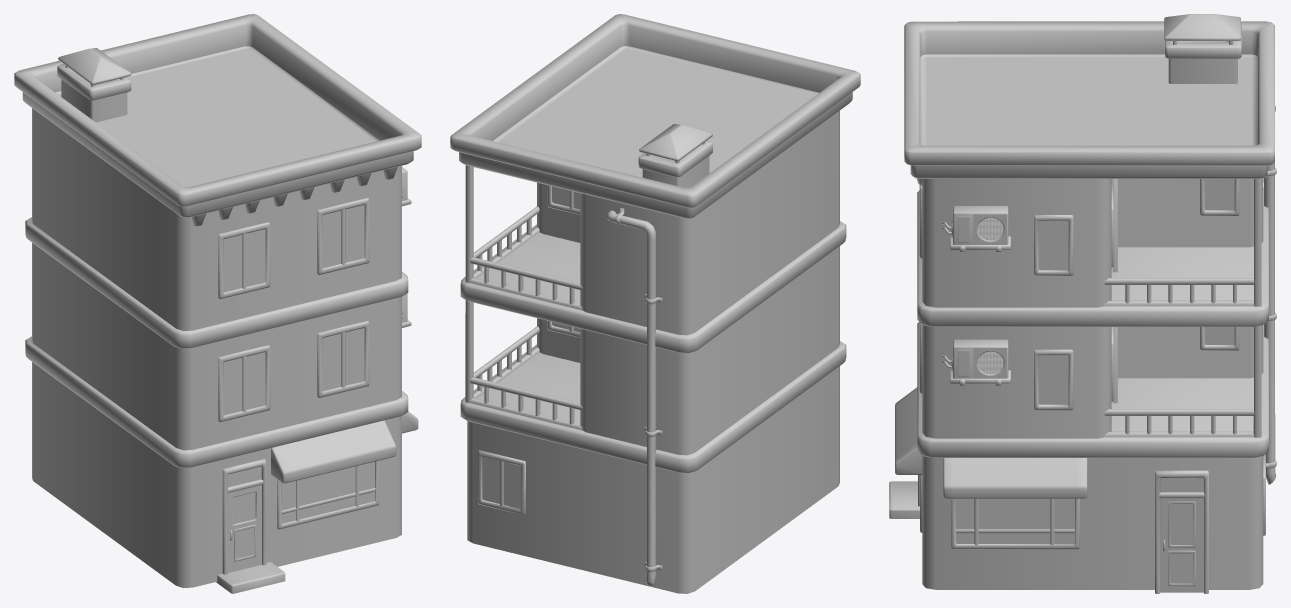
File: house_large_right.fbx
The picture shows the model from 3 angles, left to right: view 1: azimuth 30°, elevation 25°; view 2: azimuth 150°, elevation 25°; view 3: azimuth 270°, elevation 25°; orthographic projection. The views are drawn at different scales.
Parts seen in each view (by area): view 1: house_large_right; view 2: house_large_right; view 3: house_large_right, house_large_right_wire.
Part boxes in pixels (left/top/right/bottom): house_large_right: left=14, top=14, right=421, bottom=593; house_large_right: left=450, top=14, right=860, bottom=593; house_large_right: left=889, top=14, right=1276, bottom=593; house_large_right_wire: left=977, top=217, right=1003, bottom=374.
Bounding box in the file's own units: 4.46 × 7.25 × 5.31.
